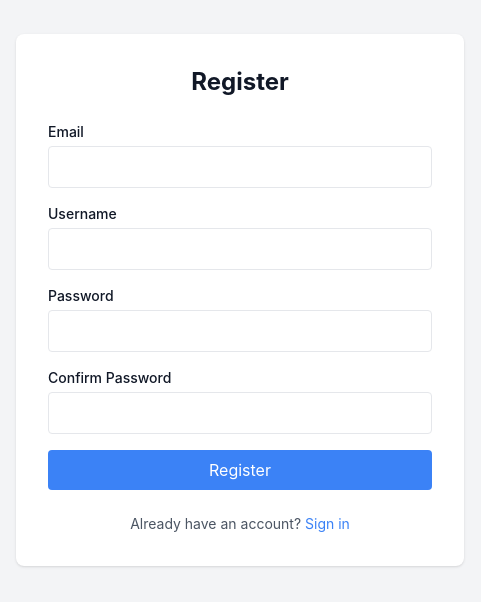
Test: RegisterPage › should show error when passwords do not match
Type "test@example.com" into the field labelled "Email" at (240, 167), box [48,146,432,188]
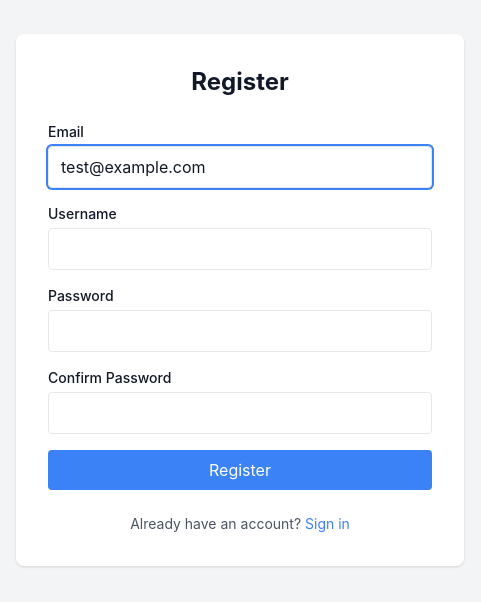
Type "testuser" into the field labelled "Username" at (240, 249), box [48,228,432,270]
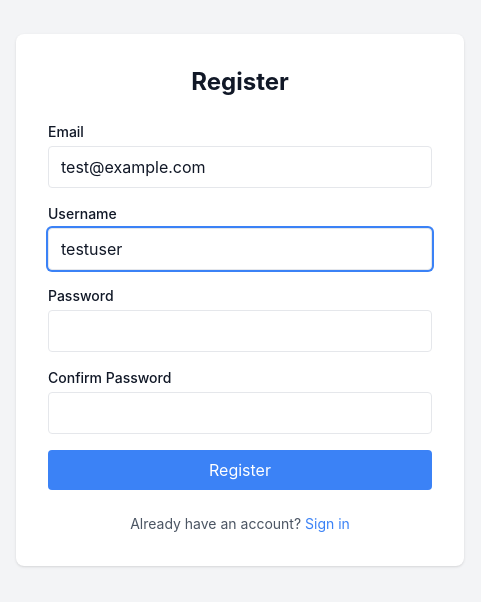
Type "Password123!" into the password field labelled "Password" at (240, 331), box [48,310,432,352]
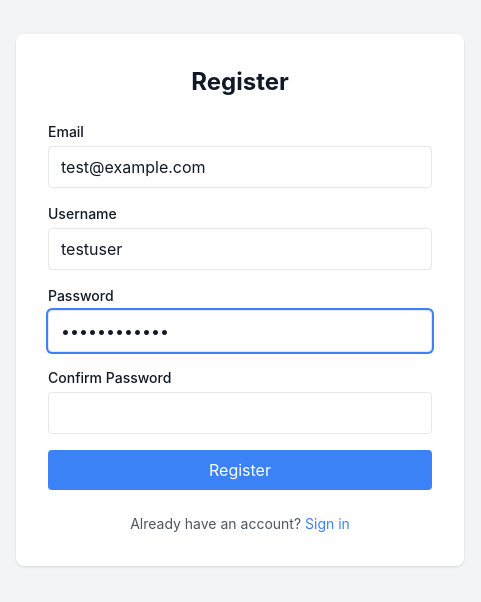
Type "DifferentPassword" into the password field labelled "Confirm Password" at (240, 413), box [48,392,432,434]
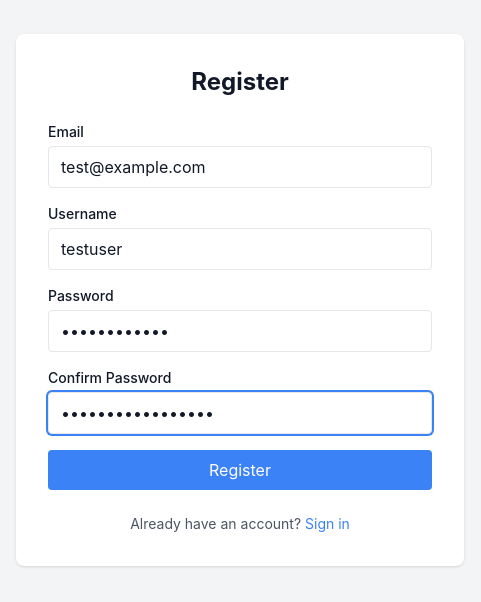
Click the button "Register" at (240, 470), box [48,450,432,490]
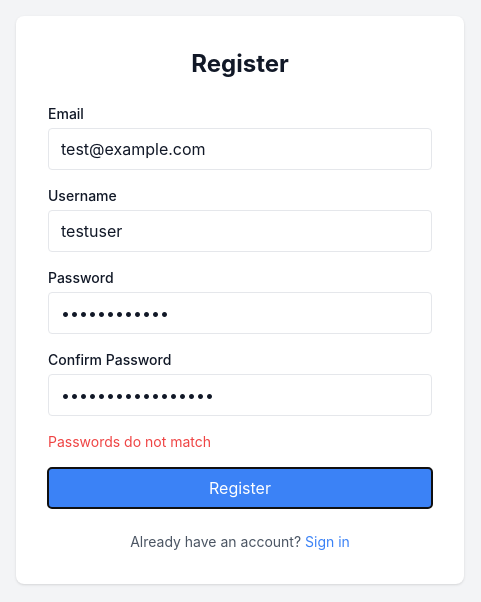
Expected: the text "Passwords do not match" is shown, [48,433,211,450]
